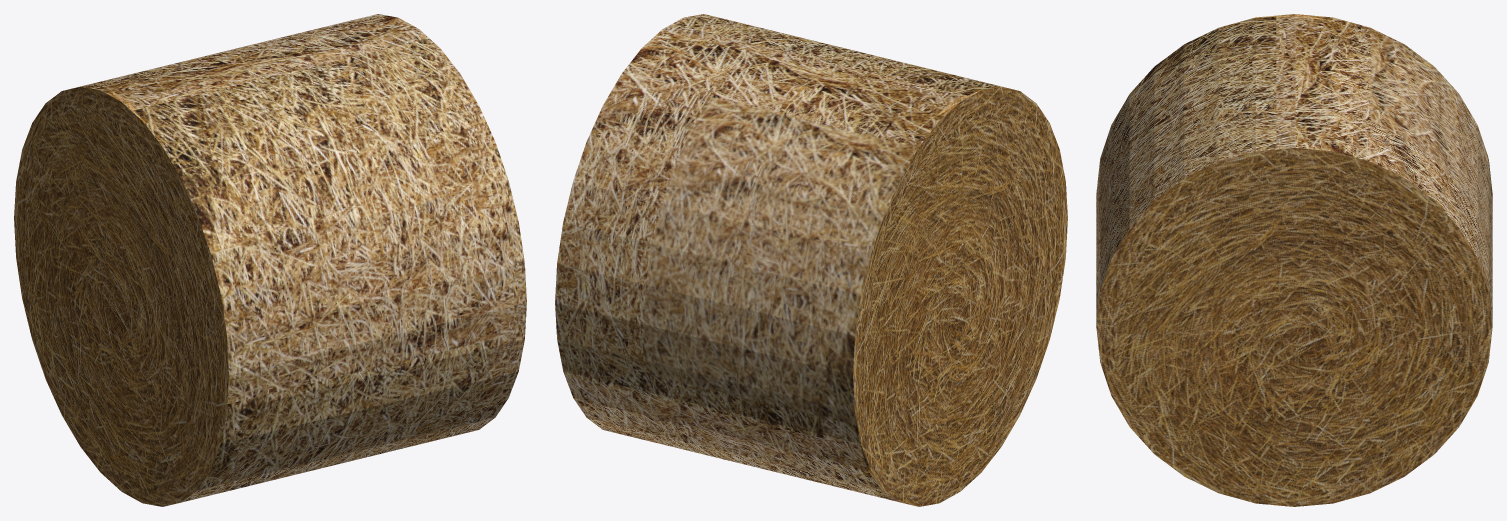
File: hay-bale.glb
3 views of the same model, side by side, from view 1: azimuth 30°, elevation 25°; view 2: azimuth 150°, elevation 25°; view 3: azimuth 270°, elevation 25° (orthographic). The views are drawn at different scales.
Visible parts, largest first — view 1: Bale; view 2: Bale; view 3: Bale.
Part boxes in pixels (left/top/right/bottom): Bale: left=14, top=14, right=526, bottom=506; Bale: left=555, top=14, right=1067, bottom=506; Bale: left=1096, top=14, right=1492, bottom=506.
Size of the model in its own units: 1.2 by 1.5 by 1.5.
Materials: 1 (1 with a texture image).
